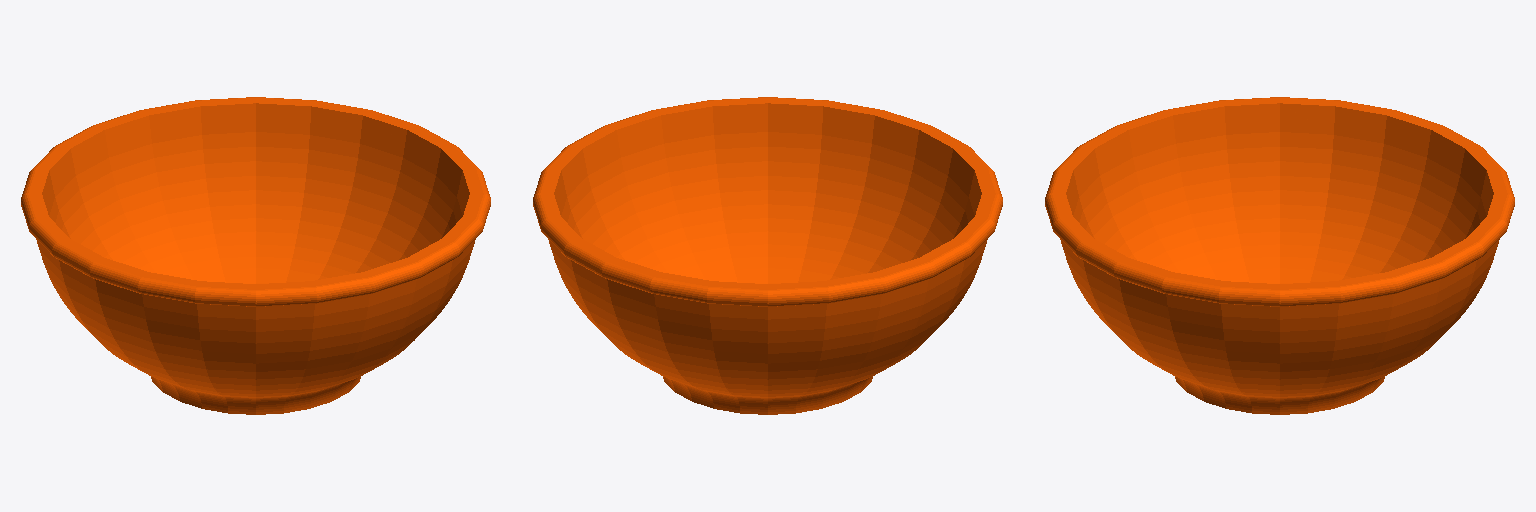
robot.urdf — Bowl_8bb057d18e2fcc4779368d1198f406e7:
<?xml version="1.0" ?>
<robot name="Bowl_8bb057d18e2fcc4779368d1198f406e7">
   <material name="obj_color">
      <color rgba="1.0 0.423529411765 0.0392156862745 1.0"/>
   </material>
   <link name="top">
      <inertial>
         <origin rpy="0.00760932490548119 0.007609340680651835 0.01217480577322025" xyz="-7.418024851161637e-05 0.0001746075384139765 0.007878830834494926"/>
         <mass value="2.495141240727875"/>
         <inertia ixx="0.007609340679239997" ixy="-1.493902587061118e-10" ixz="3.674887473635727e-09" iyy="0.007609324906898327" iyz="-3.271888285548579e-09" izz="0.01217480577321494"/>
      </inertial>
      <visual>
         <origin rpy="0 0 0" xyz="0 0 0"/>
         <geometry>
            <mesh filename="top_watertight_tiny.stl" scale="1 1 1"/>
         </geometry>
         <material name="obj_color"/>
      </visual>
      <collision>
         <origin rpy="0 0 0" xyz="0 0 0"/>
         <geometry>
            <mesh filename="top_watertight_tiny.obj" scale="1 1 1"/>
         </geometry>
      </collision>
   </link>
   <link name="bottom">
      <inertial>
         <origin rpy="1.633333333199431e-08 1.633333333199431e-08 1.633333333362855e-08" xyz="0.3464080000000008 0.3464080000000008 0.3464080000000008"/>
         <mass value="0.0009800000000000017"/>
         <inertia ixx="1.633333333253906e-08" ixy="5.447480642029219e-19" ixz="5.447480642029219e-19" iyy="1.633333333253906e-08" iyz="5.447480642029219e-19" izz="1.633333333253906e-08"/>
      </inertial>
      <visual>
         <origin rpy="0 0 0" xyz="0 0 0"/>
         <geometry>
            <mesh filename="bottom_watertight_tiny.stl" scale="1 1 1"/>
         </geometry>
         <material name="obj_color"/>
      </visual>
   </link>
   <joint name="rotation" type="revolute">
      <origin xyz="0 0 0"/>
      <axis xyz="0 0 -1"/>
      <parent link="bottom"/>
      <child link="top"/>
      <dynamics damping="1.0" friction="1.0"/>
      <limit effort="0.1" velocity="0.1" lower="0" upper="0.001"/>
   </joint>
</robot>

--- Render facts (derived) ---
The picture shows the robot from 3 angles, left to right: view 1: azimuth 30°, elevation 25°; view 2: azimuth 150°, elevation 25°; view 3: azimuth 270°, elevation 25°; orthographic projection.
Model Bowl_8bb057d18e2fcc4779368d1198f406e7 with 2 links and 1 joints (1 revolute), rooted at bottom, posed all joints at 0.
Visible links, largest first — view 1: top; view 2: top; view 3: top.
Boxes of the visible links, x1,y1,x2,y2 form: top: (21, 97, 490, 414); top: (533, 97, 1002, 414); top: (1045, 97, 1514, 414).
Size in the robot's own frame: 0.2288 by 0.2288 by 0.0943 metres.
Meshes: 2 distinct files referenced, 1 mesh visuals loaded (1 binary STL); not drawn: 1 (reference not matched to a file when rendering).
